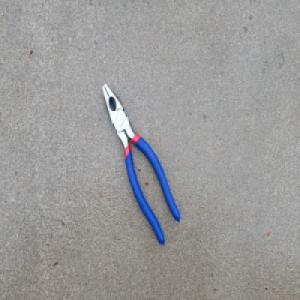Pliers: (101, 83, 181, 246)
